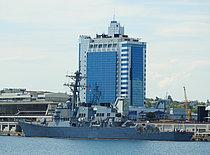MIL_Ship: (16, 70, 196, 142)
